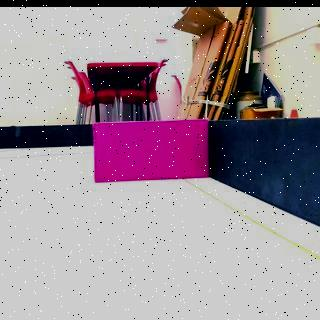xparking: (90, 118, 209, 182)
